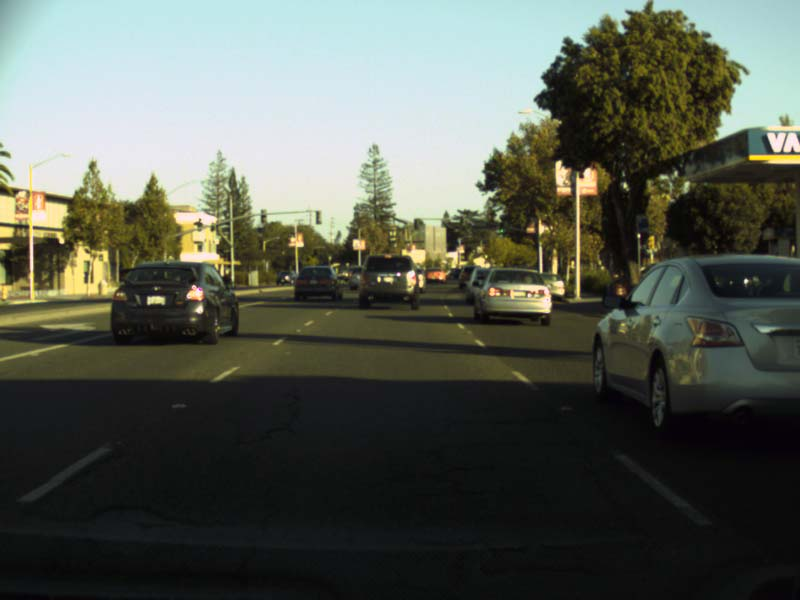Green: (499, 222, 504, 233)
